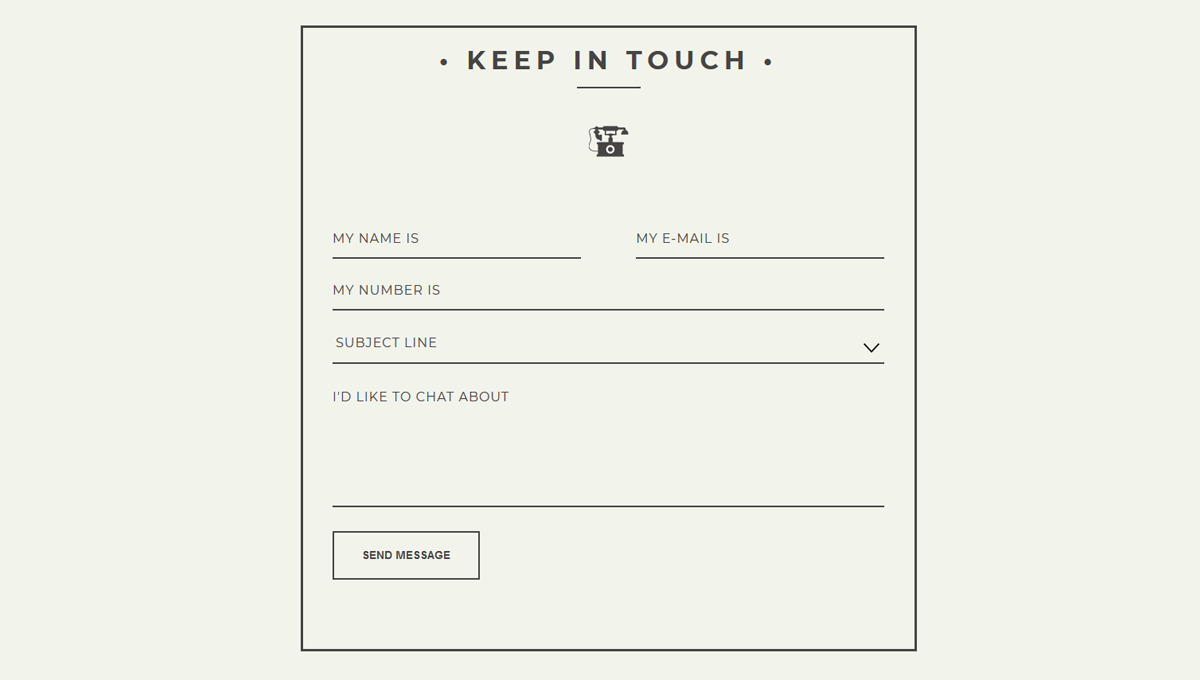_form_: (321, 208, 895, 584)
button: (332, 530, 480, 581)
field_line: (329, 281, 888, 313), (333, 335, 885, 365), (330, 230, 588, 263), (635, 227, 885, 261)
